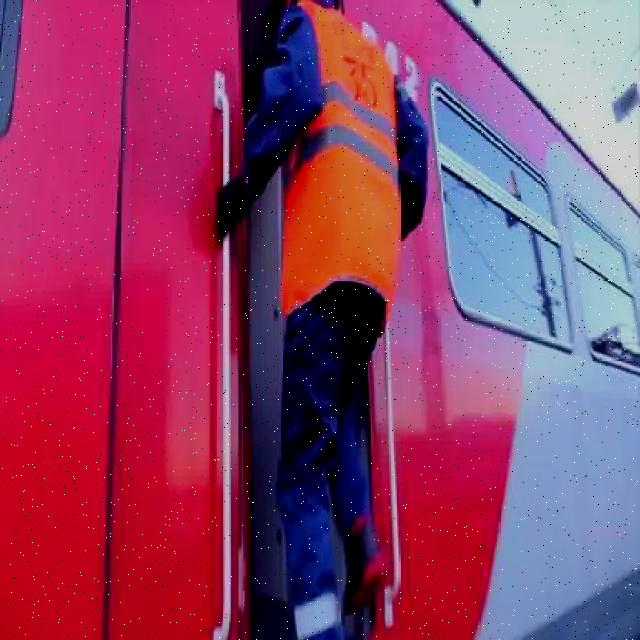Gloves: (214, 172, 246, 250)
Mask: (279, 0, 402, 332)
